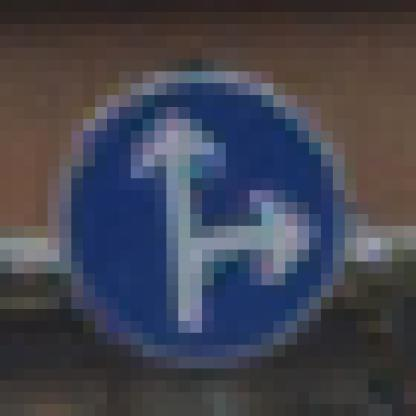Straight or Right: (60, 72, 346, 358)
